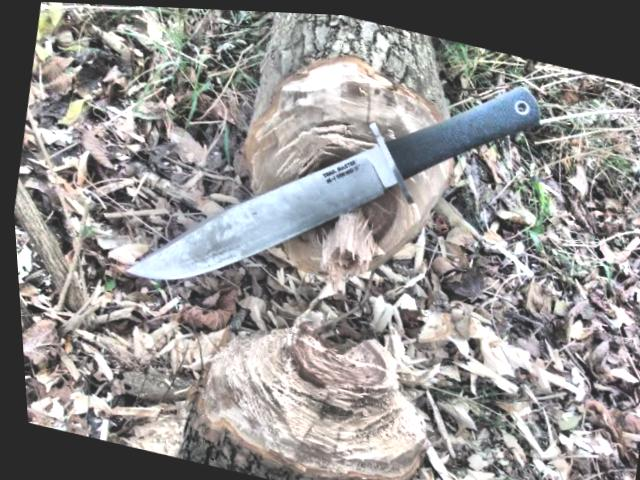knife: (106, 79, 416, 335)
